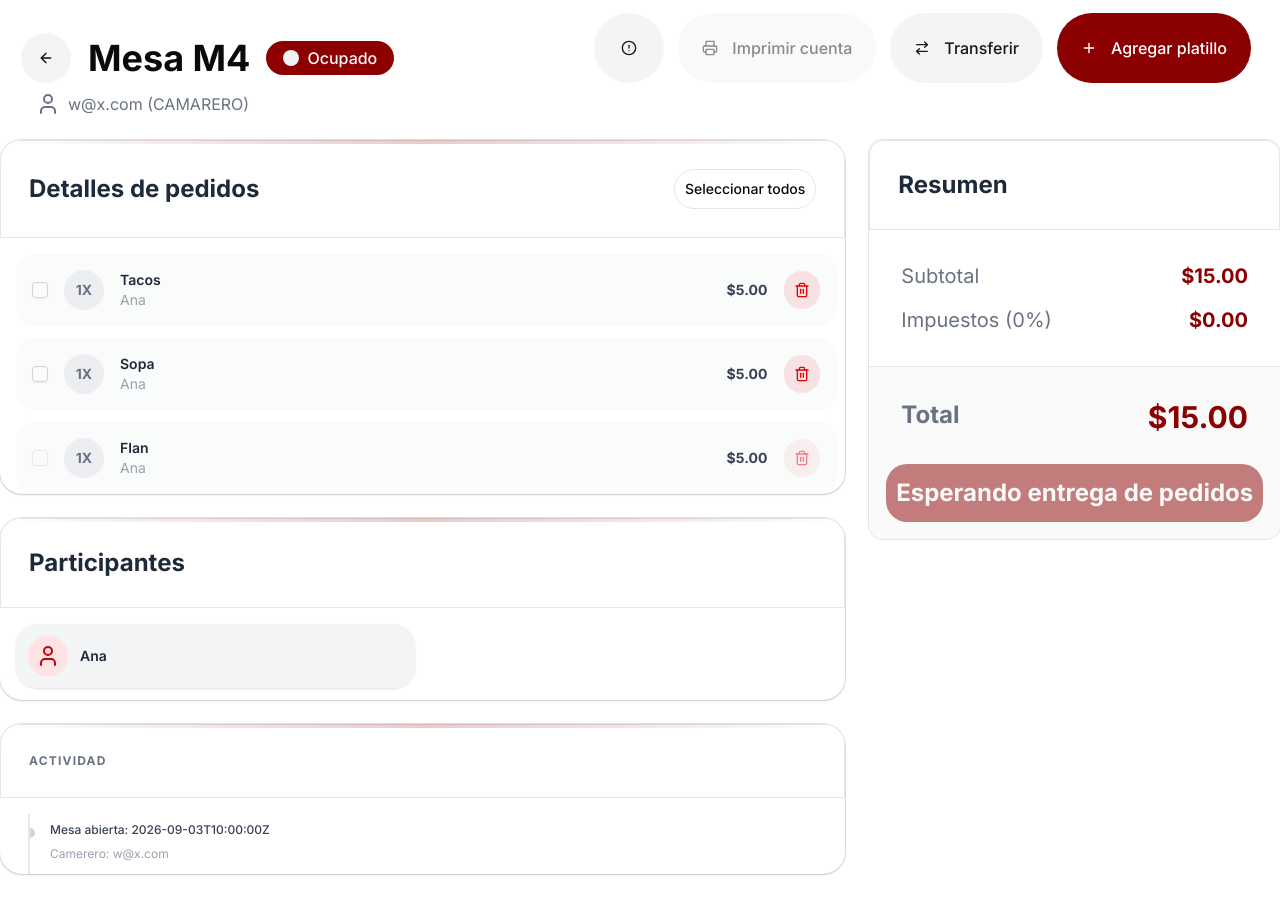
Test: TableInformation — select all + bulk delete › "Seleccionar todos" selects only the items that can still be removed
Click the button "Seleccionar todos": (745, 189) [674, 169, 816, 209]
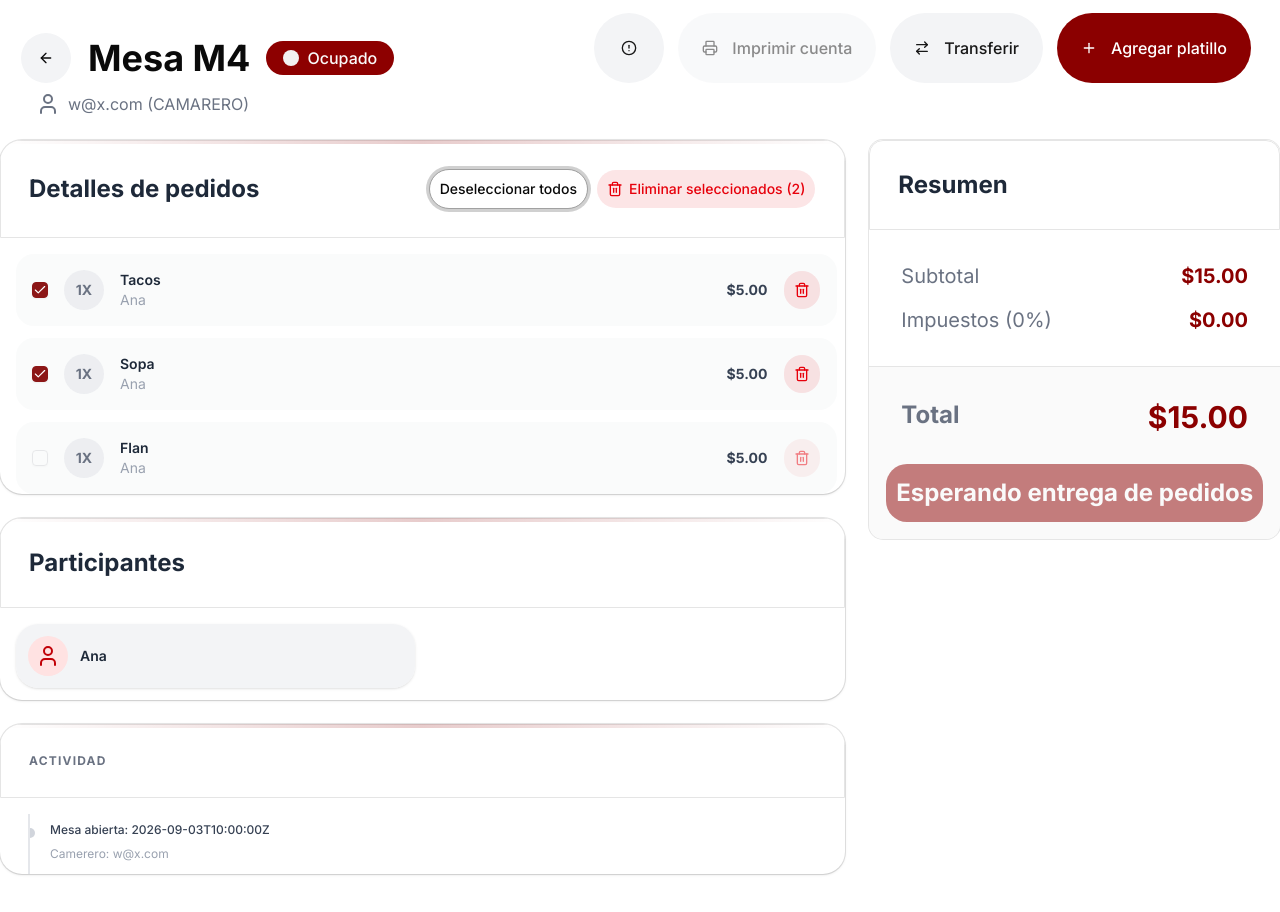
Check: the checkbox named "Seleccionar Tacos" is checked, box [32, 282, 48, 298]
Check: the checkbox named "Seleccionar Sopa" is checked, box [32, 366, 48, 382]
Check: the button "Eliminar seleccionados (2)" is shown, box [596, 169, 816, 209]
